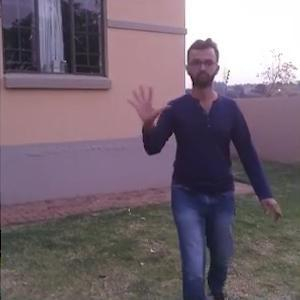follow_hand: (124, 82, 171, 125)
